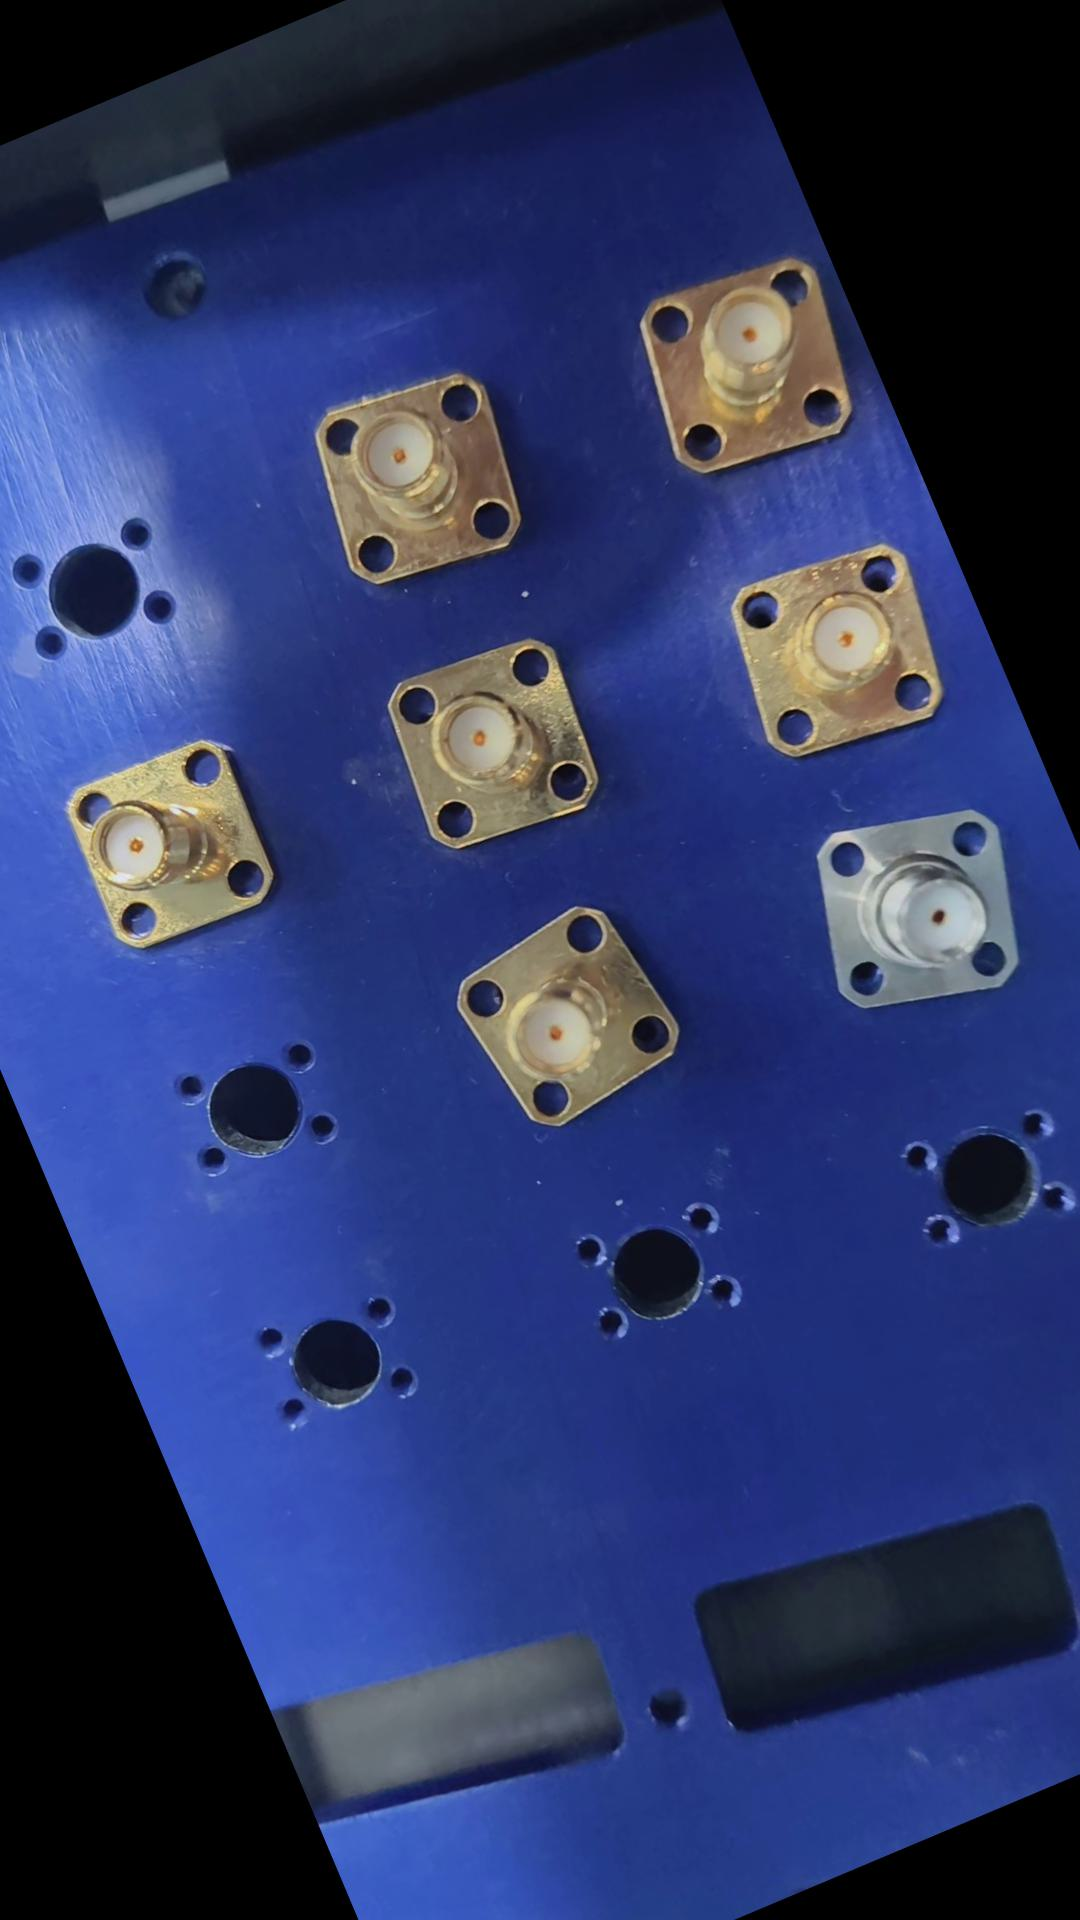SMA: (760, 767, 1054, 1062), (695, 522, 964, 796), (425, 884, 696, 1153), (353, 618, 625, 886), (274, 348, 547, 611), (607, 249, 880, 509), (40, 723, 291, 972)
